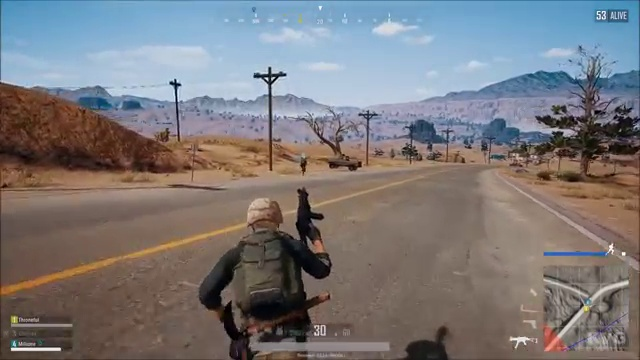Player: (183, 185, 353, 324)
